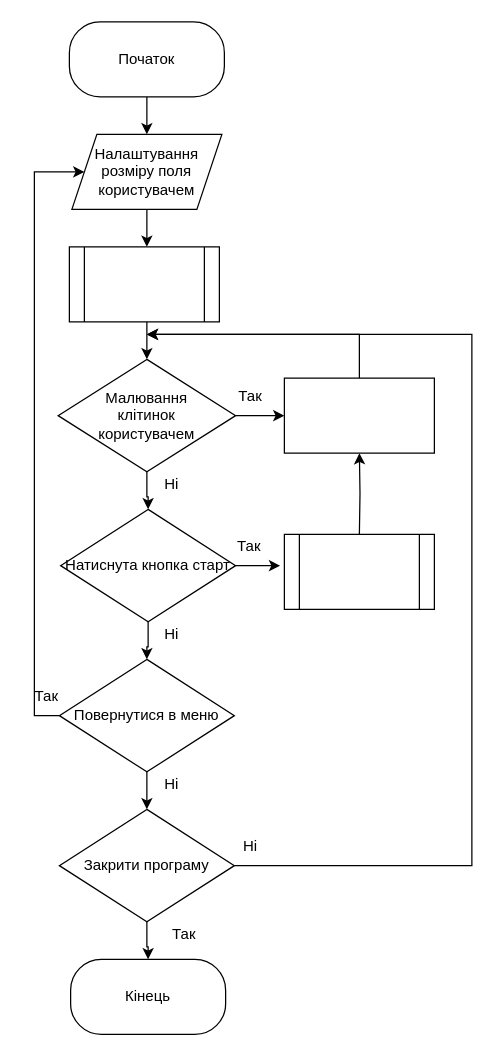
Some shapes in this 504 by 1056 pixel diagram are drawn without their labels. Each missing label, with the box of its shape:
Запис клітинок в масив: (283, 377, 434, 453)
Оновлення покоління клітинок: (283, 533, 434, 609)
Створення поля та ініціалізація компонентів: (68, 246, 219, 322)
